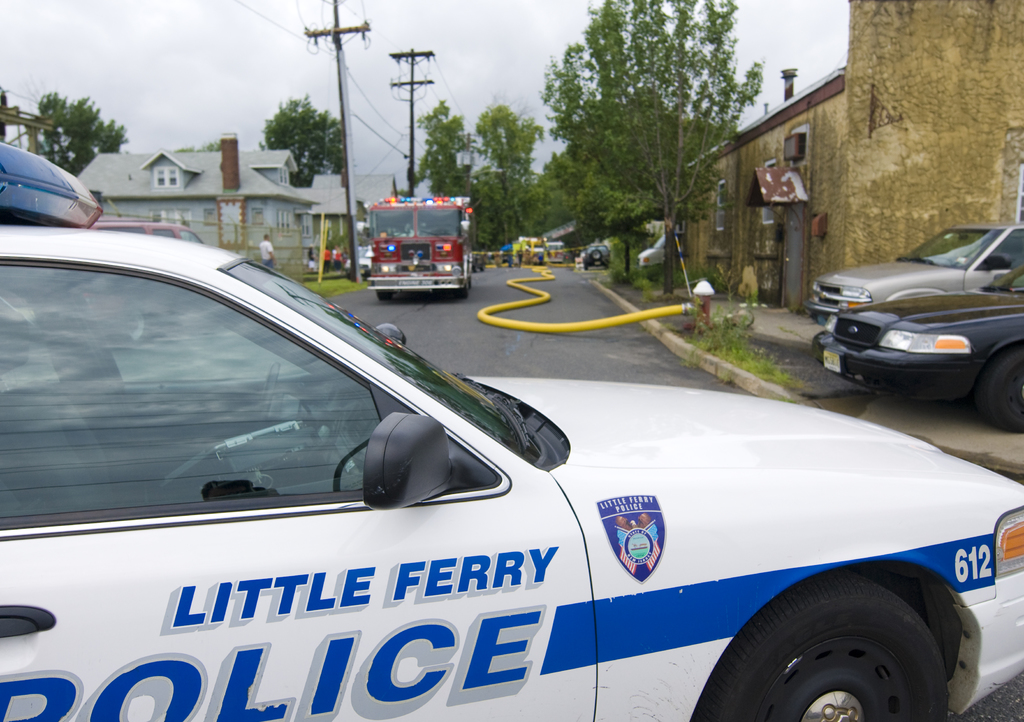Car: (0, 140, 1023, 721), (810, 262, 1023, 434), (800, 224, 1023, 329), (633, 232, 666, 282), (343, 246, 372, 279), (582, 243, 611, 270), (472, 248, 485, 272)
